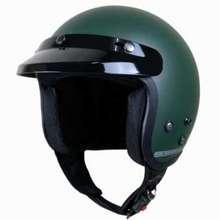helmet: (12, 2, 204, 220)
